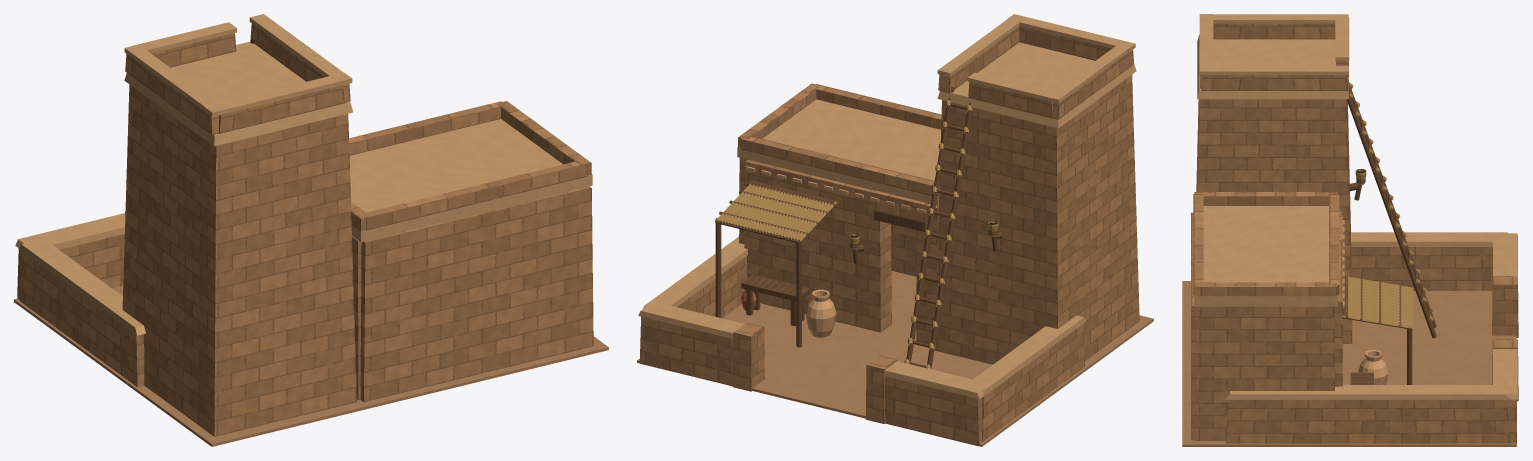
File: watch-house-v2.glb
3 renders of one model, left to right at view 1: azimuth 30°, elevation 25°; view 2: azimuth 150°, elevation 25°; view 3: azimuth 270°, elevation 25°, orthographic. The views are drawn at different scales.
Parts seen in each view (by area): view 1: Сырцовая кладка, Глиняная штукатурка, Утрамбованный двор; view 2: Сырцовая кладка, Глиняная штукатурка, Утрамбованный двор, Дерево, Тростник и плетение, Светлая керамика; view 3: Сырцовая кладка, Глиняная штукатурка, Утрамбованный двор, Тростник и плетение, Дерево, Светлая керамика.
Boxes of the visible parts, box(x1,y1,x2,y2) form: Сырцовая кладка: box(17, 23, 593, 436); Глиняная штукатурка: box(15, 14, 592, 335); Утрамбованный двор: box(14, 286, 608, 446); Сырцовая кладка: box(639, 26, 1139, 446); Глиняная штукатурка: box(638, 14, 1136, 398); Утрамбованный двор: box(637, 270, 1153, 446); Дерево: box(715, 87, 1002, 368); Тростник и плетение: box(716, 100, 998, 369); Светлая керамика: box(745, 166, 926, 337); Сырцовая кладка: box(1191, 23, 1518, 445); Глиняная штукатурка: box(1194, 14, 1517, 399); Утрамбованный двор: box(1182, 281, 1516, 446); Тростник и плетение: box(1342, 82, 1433, 329); Дерево: box(1342, 81, 1436, 384); Светлая керамика: box(1342, 220, 1388, 384).
Size of the model in its own units: 4.82 by 3.76 by 4.18.
Materials: 8 (8 with a texture image).
